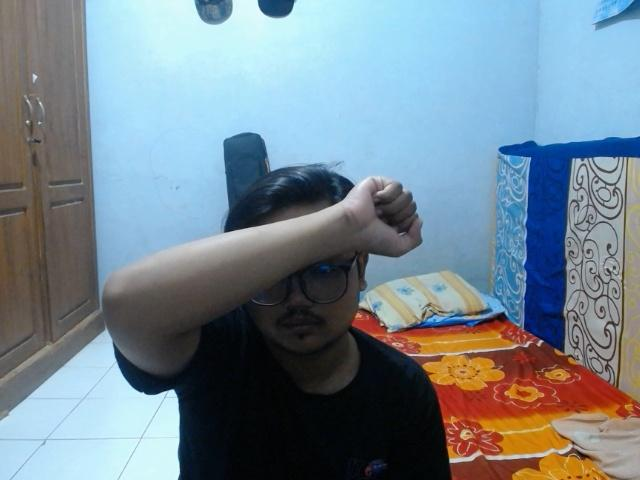Grab: (342, 169, 427, 263)
